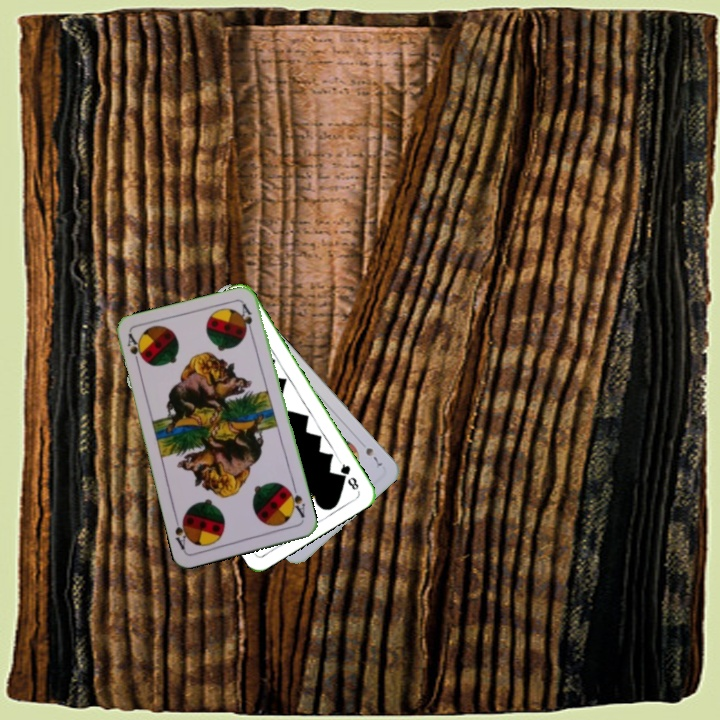G8: (335, 457, 361, 493)
S7: (361, 444, 384, 469)
SA: (283, 482, 308, 520), (123, 330, 146, 370)
